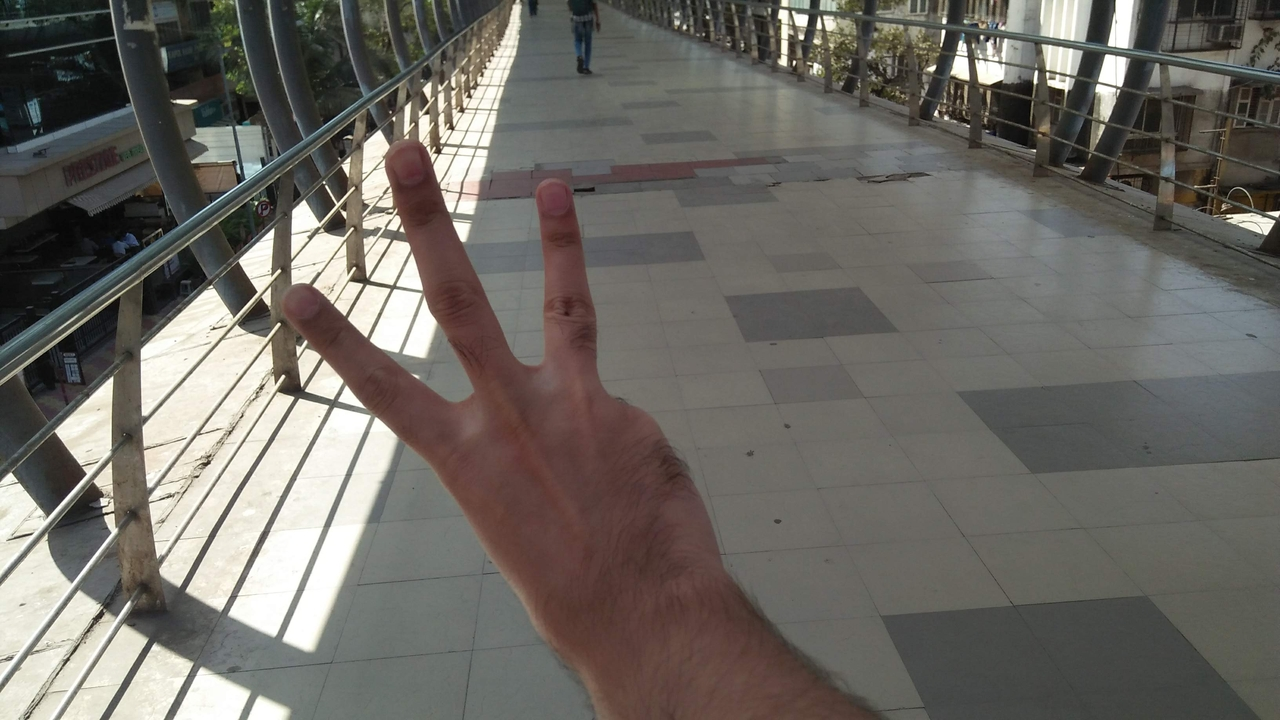fingertip: (376, 132, 434, 194), (270, 284, 324, 332), (522, 166, 578, 212)
